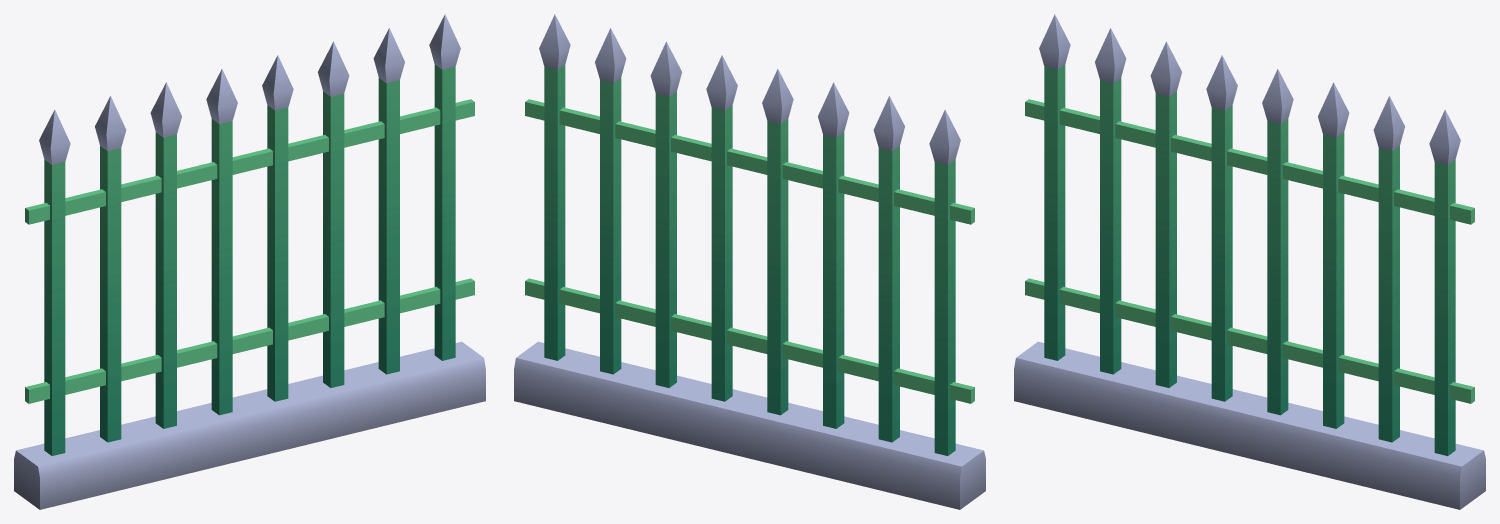
Rendered from iron-fence-border.glb.
3 renders of one model, left to right at view 1: azimuth 30°, elevation 25°; view 2: azimuth 150°, elevation 25°; view 3: azimuth 330°, elevation 25°, orthographic.
Parts seen in each view (by area): view 1: Asset3DLoader.sceneRoot; view 2: Asset3DLoader.sceneRoot; view 3: Asset3DLoader.sceneRoot.
Boxes of the visible parts, x1=… form: Asset3DLoader.sceneRoot: x1=14, y1=14, x2=485, y2=509; Asset3DLoader.sceneRoot: x1=514, y1=14, x2=985, y2=509; Asset3DLoader.sceneRoot: x1=1014, y1=14, x2=1485, y2=509.
Bounding box in the file's own units: 1 × 0.8239 × 0.1.
Materials: 1 (1 with a texture image).
